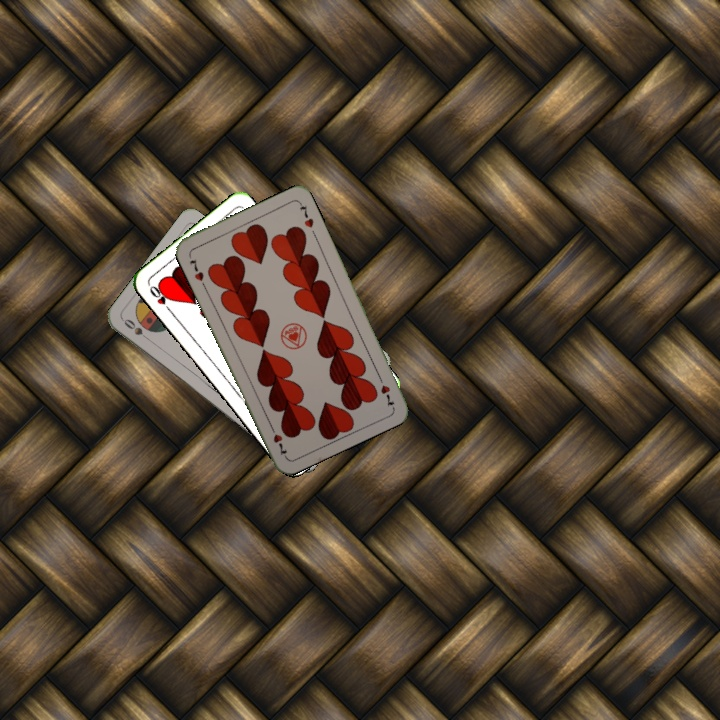H7: (374, 371, 397, 409), (185, 255, 206, 284)
HO: (145, 282, 175, 316)
SO: (119, 315, 154, 344)
